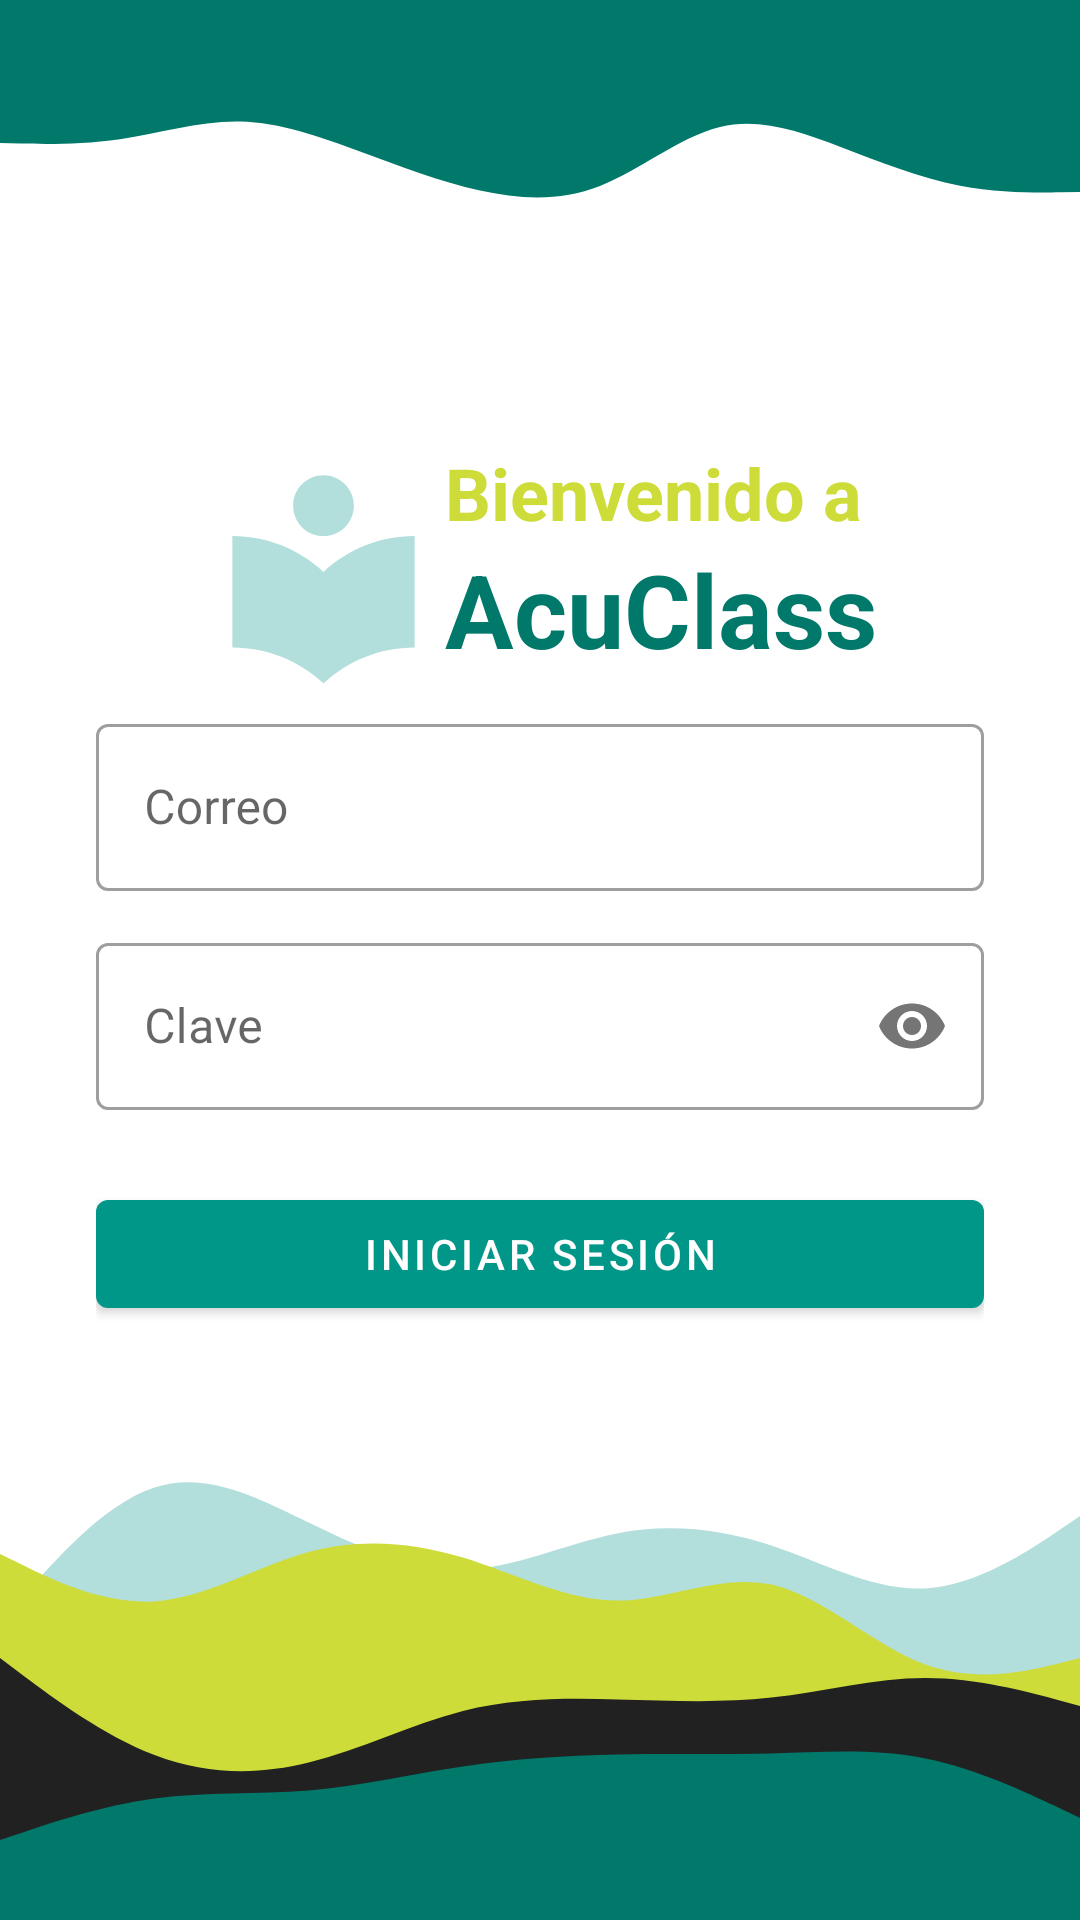

Screen size 1080px×1920px. Icon name, then its box in pixels as (x1, y1, x2, y2):
library user: (232, 475, 415, 683)
